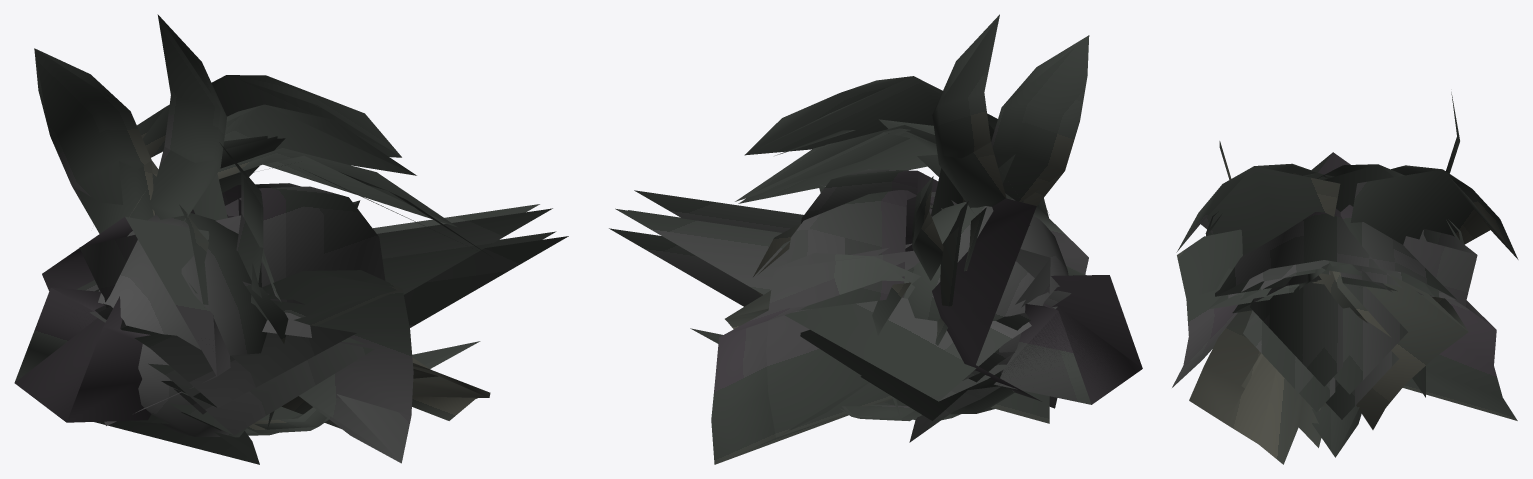
The model's file is NEEDLEPOD_BIND.fbx.
3 renders of one model, left to right at view 1: azimuth 30°, elevation 25°; view 2: azimuth 150°, elevation 25°; view 3: azimuth 270°, elevation 25°, orthographic. The views are drawn at different scales.
Visible parts, largest first — view 1: NEEDLEPOD_BIND; view 2: NEEDLEPOD_BIND; view 3: NEEDLEPOD_BIND.
Boxes of the visible parts, bbox=[...] form: NEEDLEPOD_BIND: bbox=[14, 14, 568, 464]; NEEDLEPOD_BIND: bbox=[609, 14, 1142, 464]; NEEDLEPOD_BIND: bbox=[1172, 92, 1518, 464].
Size of the model in its own units: 5543 by 4652 by 4046.
Materials: 1 (1 with a texture image).
